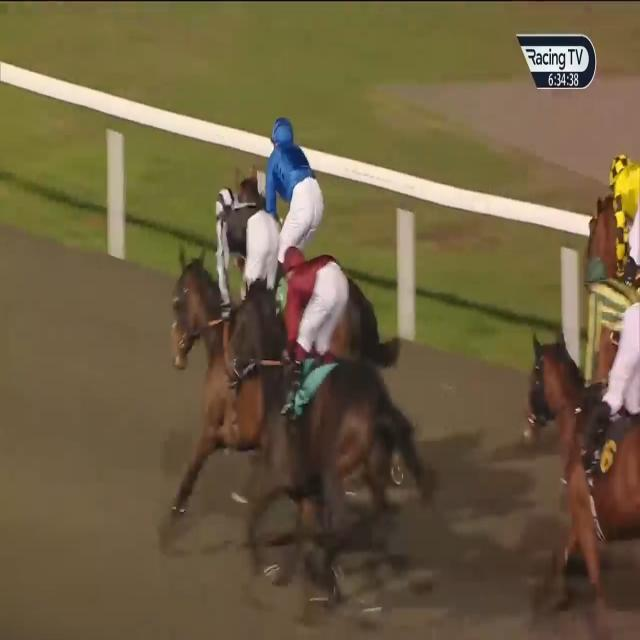horses-racing: (226, 247, 404, 630), (517, 307, 640, 590), (159, 191, 280, 394), (234, 110, 322, 276), (580, 143, 640, 314)
